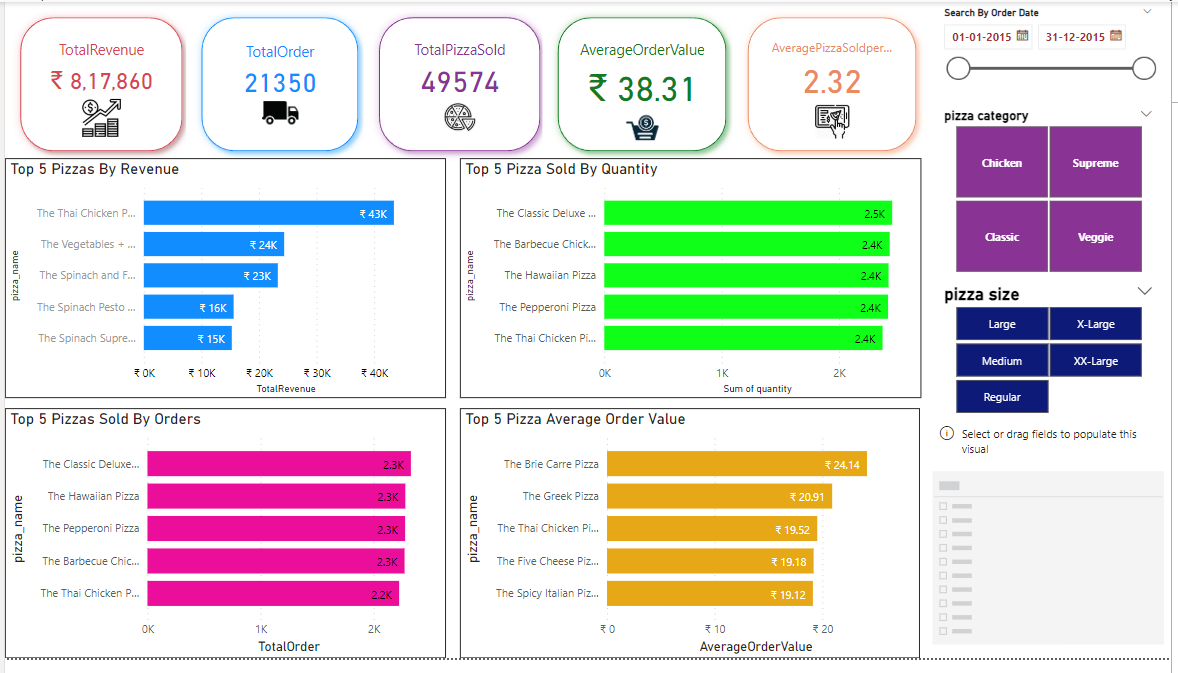

This screenshot's page, from the dashboard's own definition file:
{"tool":"powerbi","page":{"name":"Best Seller","canvas":[1280,720],"ordinal":1},"visuals":[{"type":"cardVisual","fields":{"Data":["Pizza_Sales.TotalRevenue"]},"box":[0,0,212.8,181.4],"z":0},{"type":"cardVisual","fields":{"Data":["Pizza_Sales.TotalOrder"]},"box":[199.3,0,206.7,181.8],"z":1000},{"type":"cardVisual","fields":{"Data":["Pizza_Sales.TotalPizzaSold"]},"box":[393.5,0,211.7,181.8],"z":2000},{"type":"cardVisual","fields":{"Data":["Pizza_Sales.AverageOrderValue"]},"box":[590.3,0,219.2,181.8],"z":3000},{"type":"cardVisual","fields":{"Data":["Pizza_Sales.AveragePizzaSoldperOrder"]},"box":[798.3,0,219.2,181.8],"z":4000},{"type":"slicer","fields":{"Values":["Calendar.Date"]},"box":[1018.6,0,253.5,103.5],"z":5000},{"type":"slicer","fields":{"Values":["Pizza_Sales.pizza_category"]},"box":[1018.6,111.6,253.5,191.9],"z":6000},{"type":"slicer","fields":{"Values":["Pizza_Sales.pizza_size"]},"box":[1018.2,304.6,253.9,153.7],"z":7000},{"type":"clusteredBarChart","title":"Top 5 Pizzas By Revenue","fields":{"Y":["Pizza_Sales.TotalRevenue"],"Category":["Pizza_Sales.pizza_name"]},"box":[0,171.5,484.4,263.5],"z":8000},{"type":"clusteredBarChart","title":"Top 5 Pizza Sold By Quantity","fields":{"Y":["Sum(Pizza_Sales.quantity)"],"Category":["Pizza_Sales.pizza_name"]},"box":[499.5,171.5,506.3,263.5],"z":9000},{"type":"clusteredBarChart","title":"Top 5 Pizzas Sold By Orders","fields":{"Y":["Pizza_Sales.TotalOrder"],"Category":["Pizza_Sales.pizza_name"]},"box":[0,446,484.4,274.4],"z":10000},{"type":"clusteredBarChart","title":"Top 5 Pizza Average Order Value","fields":{"Y":["Pizza_Sales.AverageOrderValue"],"Category":["Pizza_Sales.pizza_name"]},"box":[499.5,446,505,274.4],"z":11000},{"type":"slicer","box":[1018,459,254,261],"z":12000}]}

Visuals, with their boxes on the page's 1280x720 design canvas (x1, y1, x2, y2). These are canvas units, not pixel positions in the 1178x673 screenshot, which may show the page scaled, cropped or inside an application window:
cardVisual - Pizza_Sales.TotalRevenue: (left=0, top=0, right=213, bottom=181)
cardVisual - Pizza_Sales.TotalOrder: (left=199, top=0, right=406, bottom=182)
cardVisual - Pizza_Sales.TotalPizzaSold: (left=394, top=0, right=605, bottom=182)
cardVisual - Pizza_Sales.AverageOrderValue: (left=590, top=0, right=810, bottom=182)
cardVisual - Pizza_Sales.AveragePizzaSoldperOrder: (left=798, top=0, right=1018, bottom=182)
slicer - Calendar.Date: (left=1019, top=0, right=1272, bottom=104)
slicer - Pizza_Sales.pizza_category: (left=1019, top=112, right=1272, bottom=304)
slicer - Pizza_Sales.pizza_size: (left=1018, top=305, right=1272, bottom=458)
"Top 5 Pizzas By Revenue" clusteredBarChart: (left=0, top=172, right=484, bottom=435)
"Top 5 Pizza Sold By Quantity" clusteredBarChart: (left=500, top=172, right=1006, bottom=435)
"Top 5 Pizzas Sold By Orders" clusteredBarChart: (left=0, top=446, right=484, bottom=720)
"Top 5 Pizza Average Order Value" clusteredBarChart: (left=500, top=446, right=1004, bottom=720)
slicer: (left=1018, top=459, right=1272, bottom=720)
